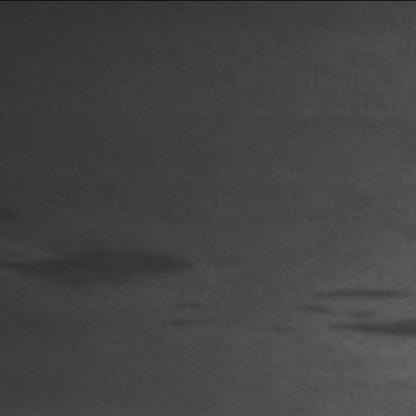inclusion: (0, 237, 198, 308), (274, 281, 412, 345)
